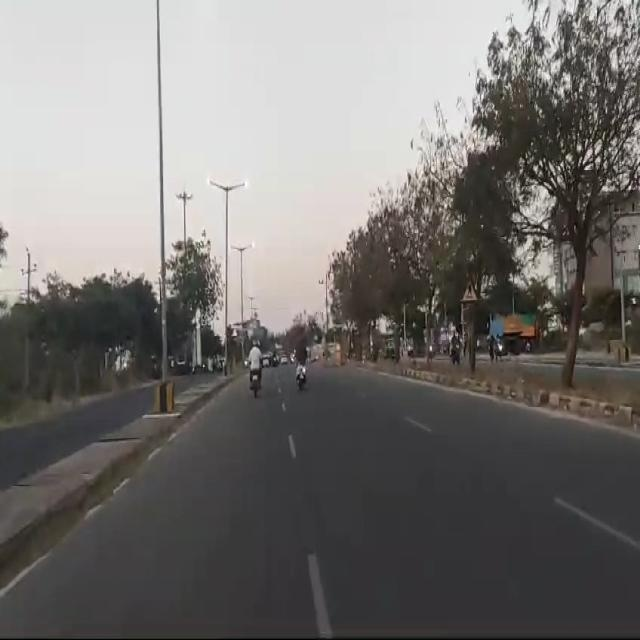bien_nguy_hiem: (460, 274, 479, 302)
